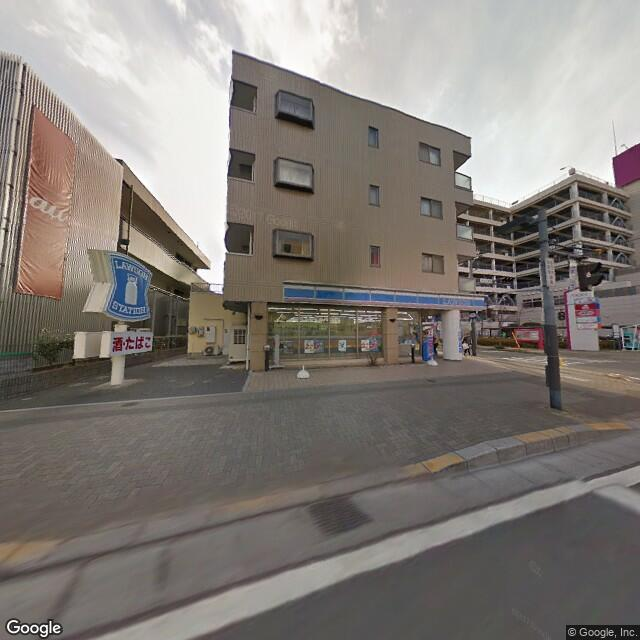lawson: (282, 278, 487, 314), (102, 251, 154, 320)
